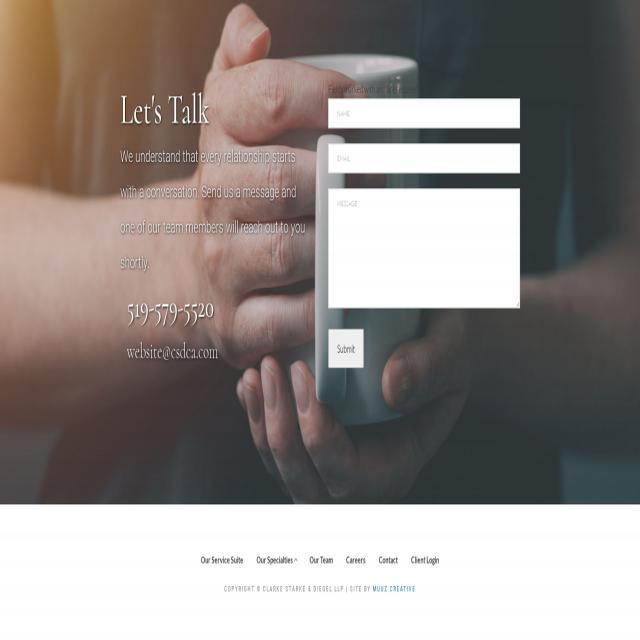button: (194, 542, 250, 576), (250, 543, 302, 577), (328, 329, 364, 369), (404, 543, 446, 577), (303, 543, 339, 577), (340, 543, 372, 577), (372, 543, 404, 577)
field: (328, 190, 520, 309), (328, 99, 520, 128), (328, 144, 520, 173)
